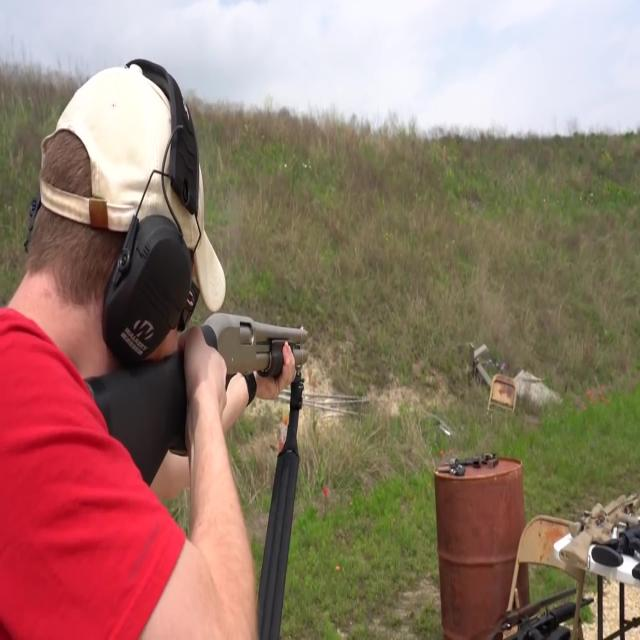Weapon: (51, 285, 332, 499), (435, 584, 640, 639), (546, 472, 640, 589), (424, 409, 516, 504)
